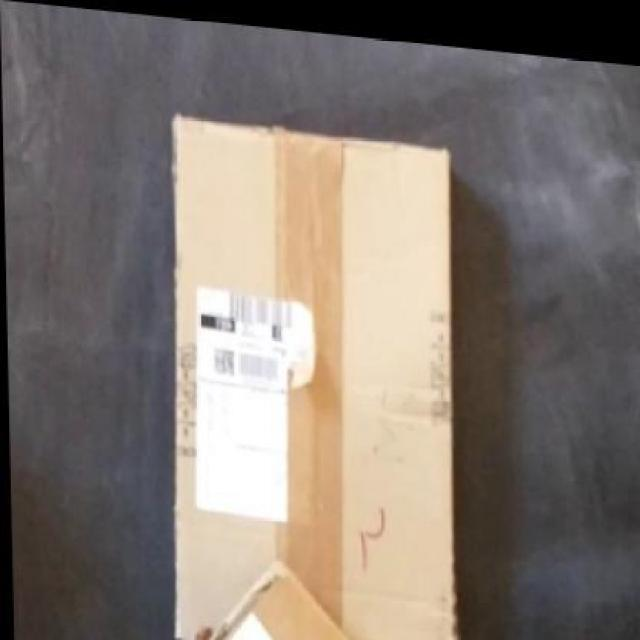box: (170, 114, 456, 638)
